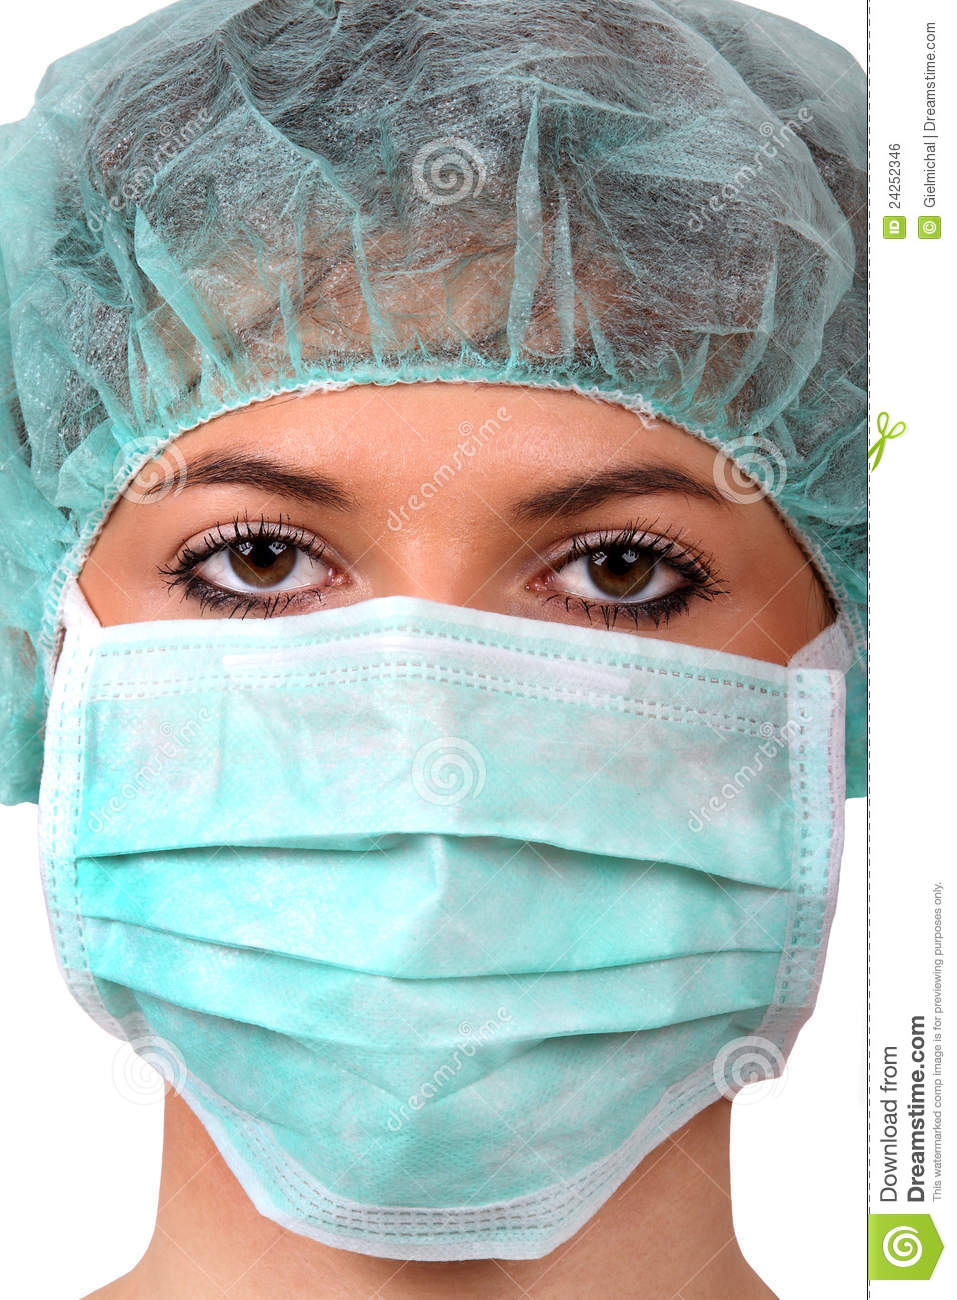mask: (39, 595, 850, 1263)
